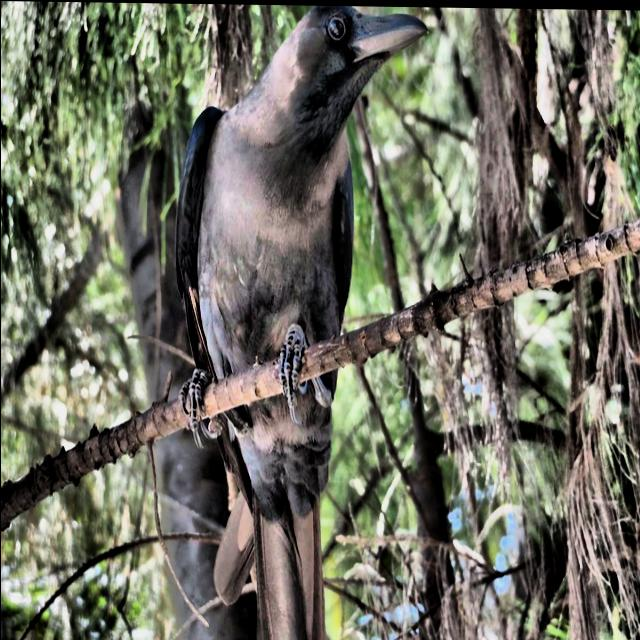crow: (165, 2, 477, 640)
